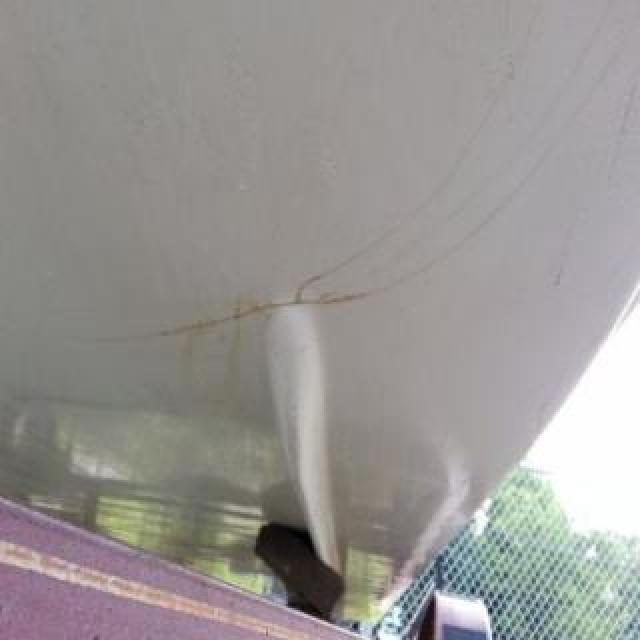crack: (87, 20, 639, 346), (318, 1, 618, 303), (295, 1, 547, 305)
dent: (601, 66, 639, 204)
